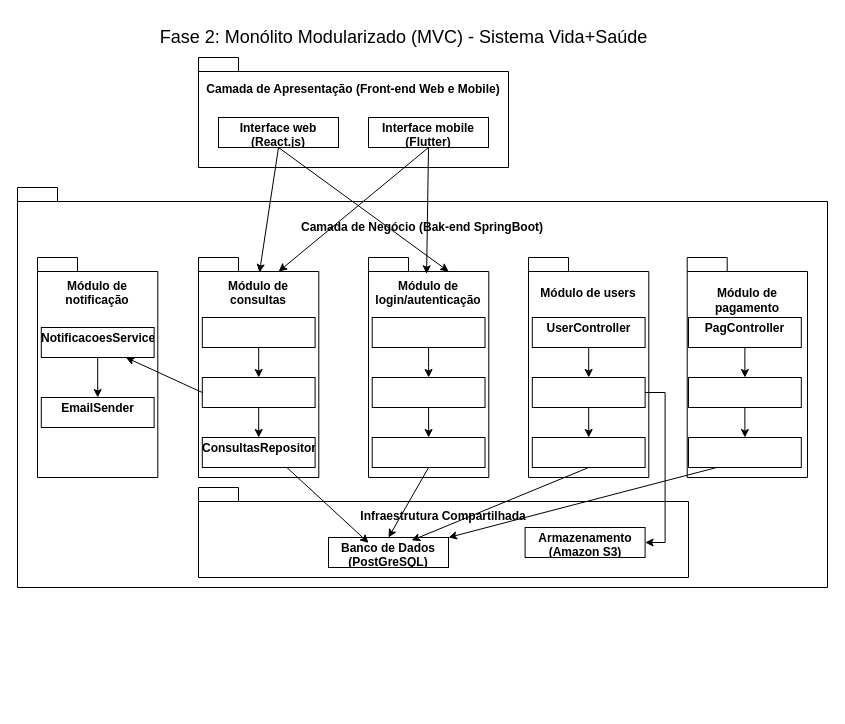
Image size: 845x724. Some labels were removed from this diagram. The shapes that lost their labels are listed below. From the top down, each one's centre as x and y in pixels, then its label:
At (x=258, y=332): "ConsultasController".
At (x=428, y=332): "LoginController".
At (x=258, y=392): "ConsultasService".
At (x=428, y=392): "LoginService".
At (x=588, y=392): "UserService".
At (x=744, y=392): "PagService".
At (x=428, y=452): "LoginRepository".
At (x=588, y=452): "UserRepository".
At (x=744, y=452): "PagRepository".
